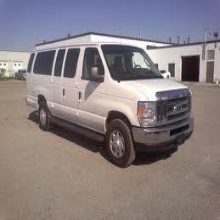no damage: (25, 40, 196, 169)
